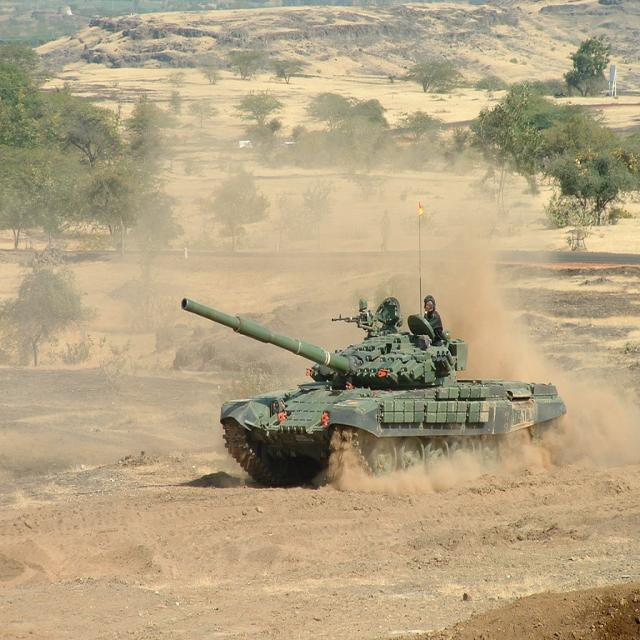tank: (180, 205, 568, 486)
